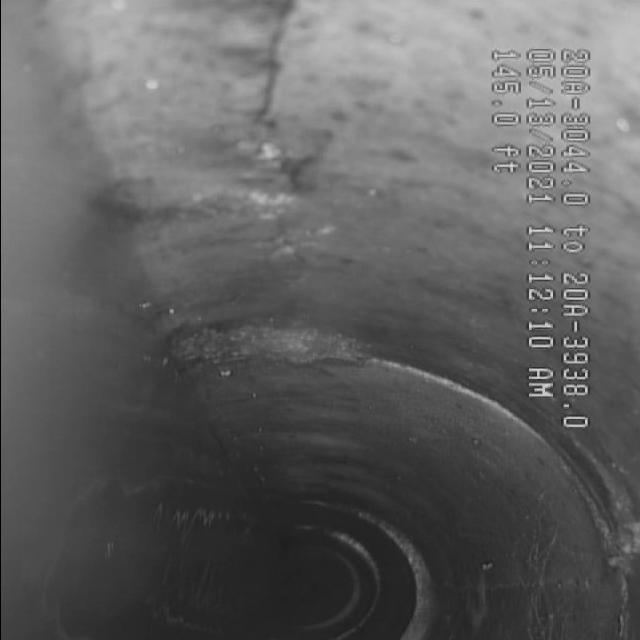Crack: (198, 24, 370, 258)
